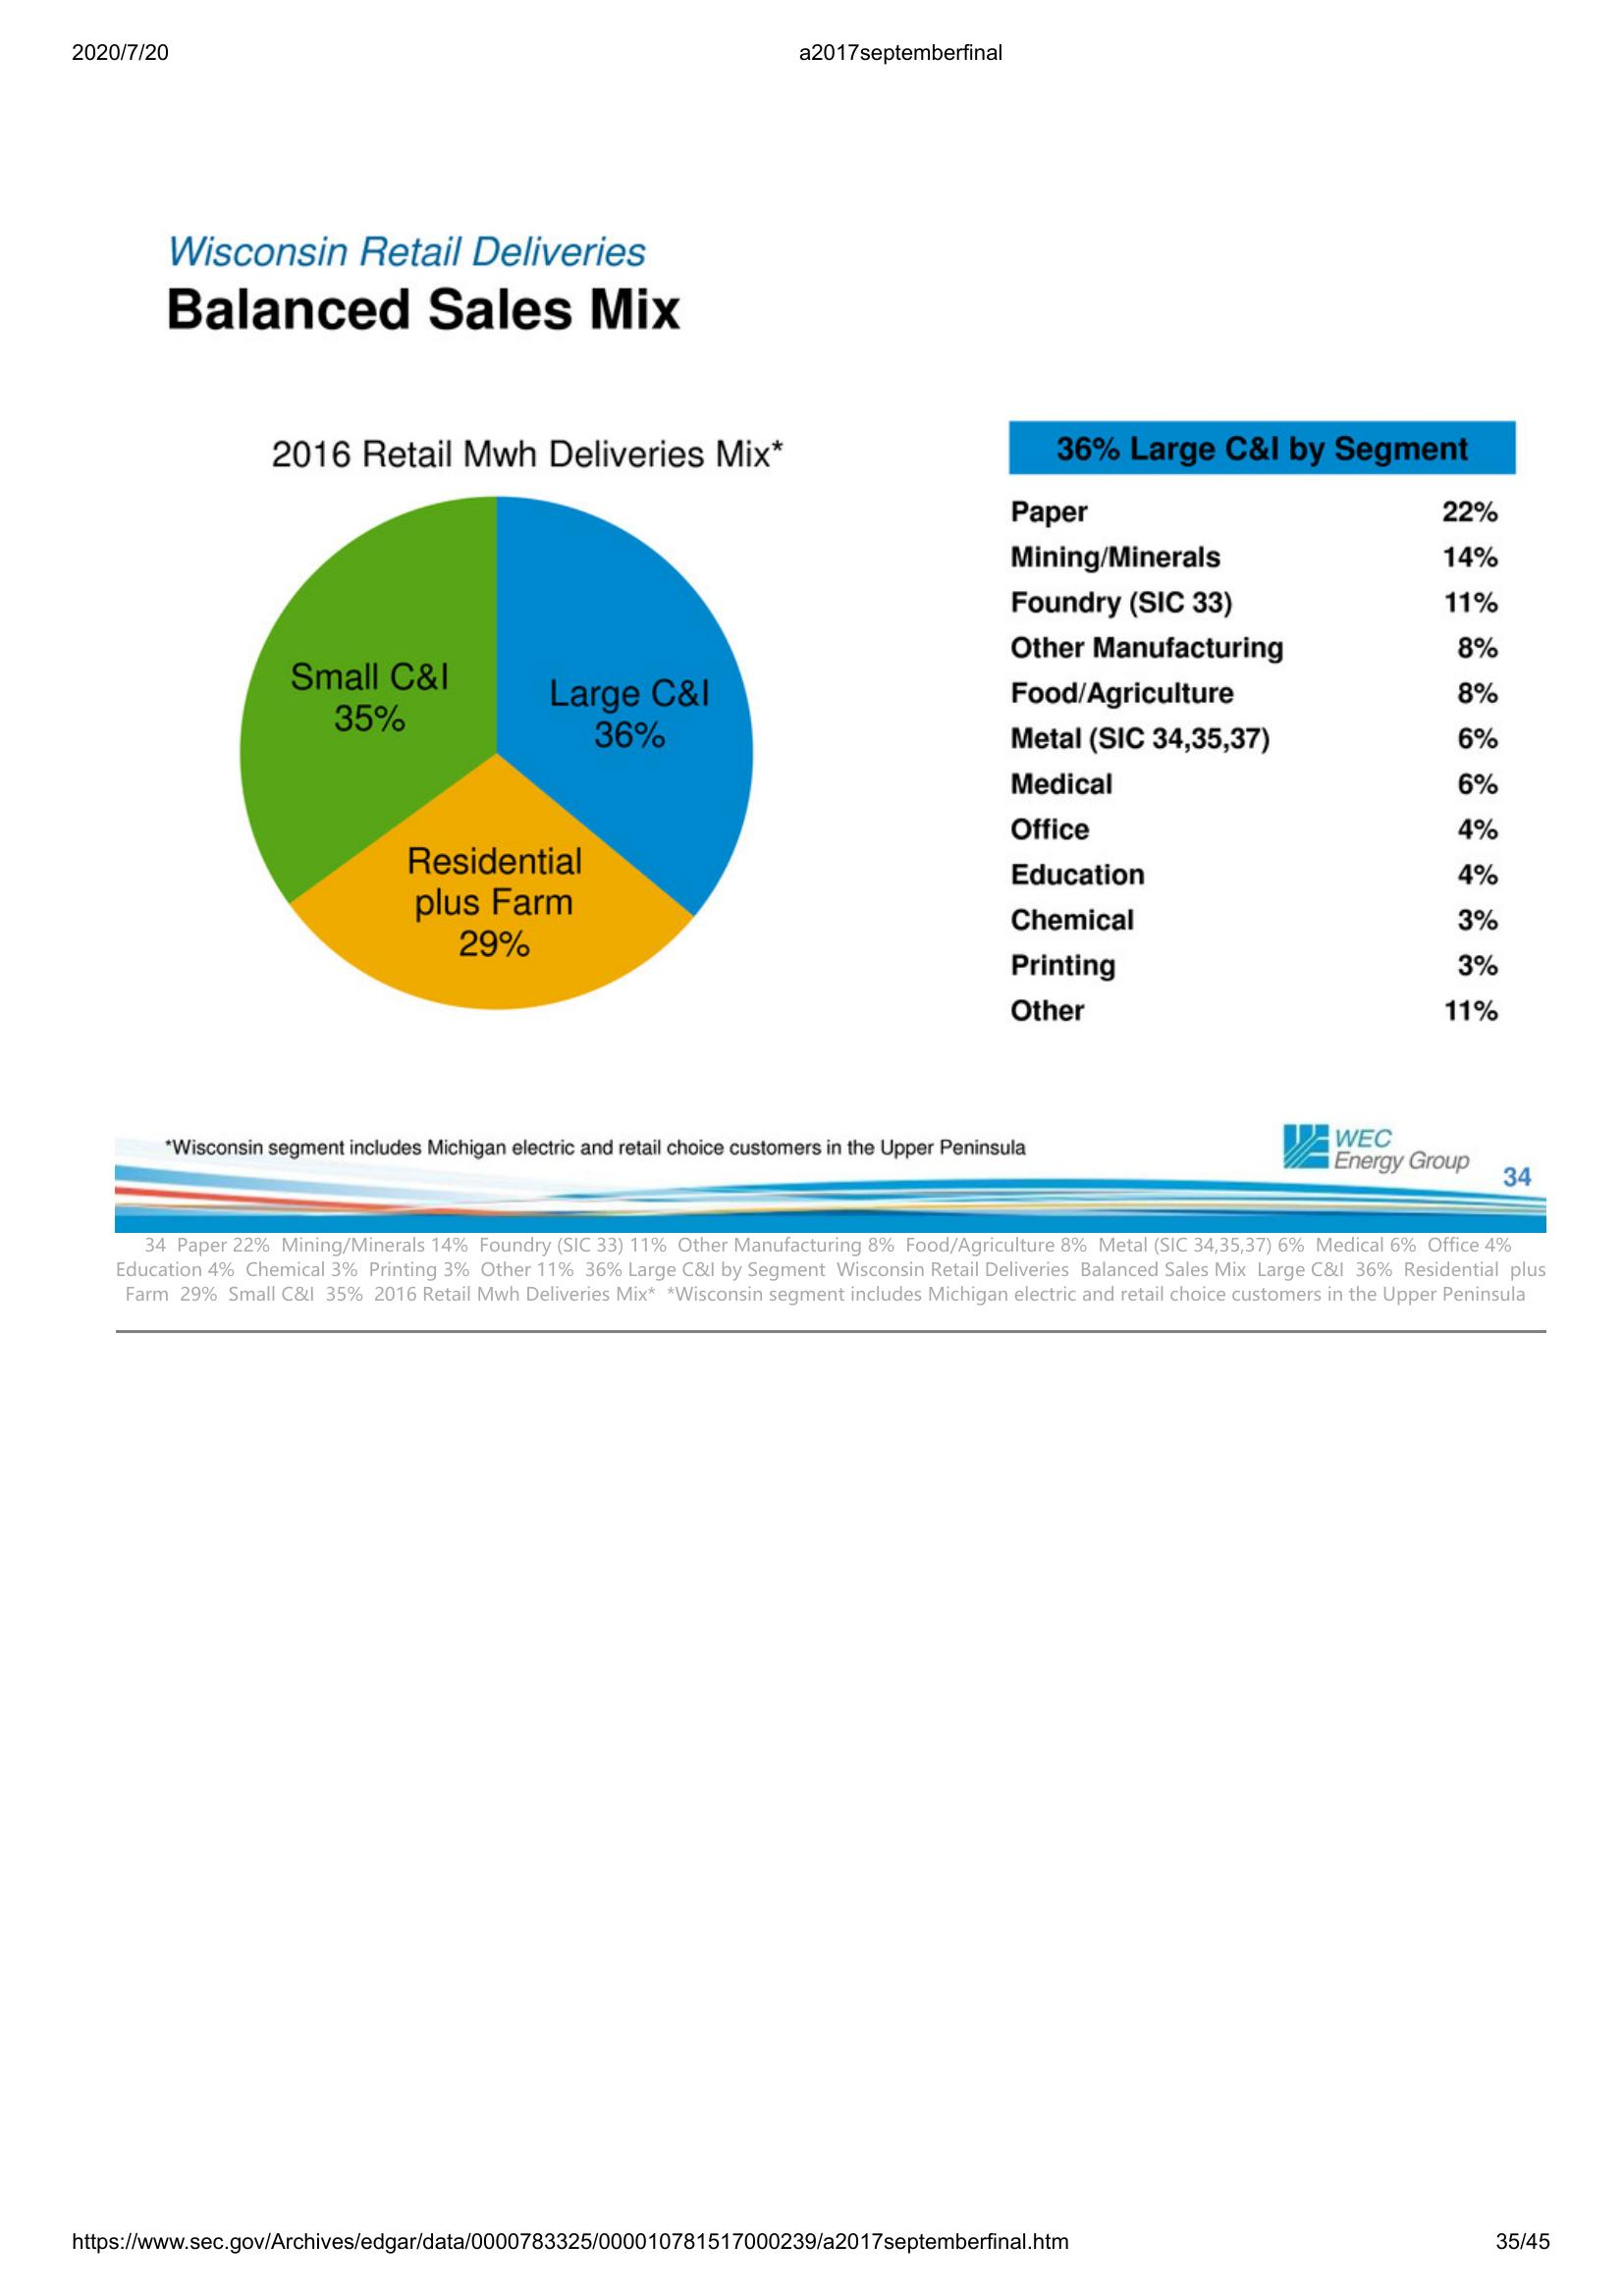table: (1001, 420, 1518, 1029)
